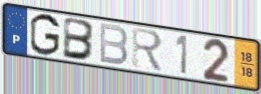1: (174, 35, 189, 77)
2: (202, 37, 232, 85)
B: (61, 16, 97, 63), (98, 22, 130, 67)
G: (29, 12, 62, 58)
R: (131, 25, 166, 74)
